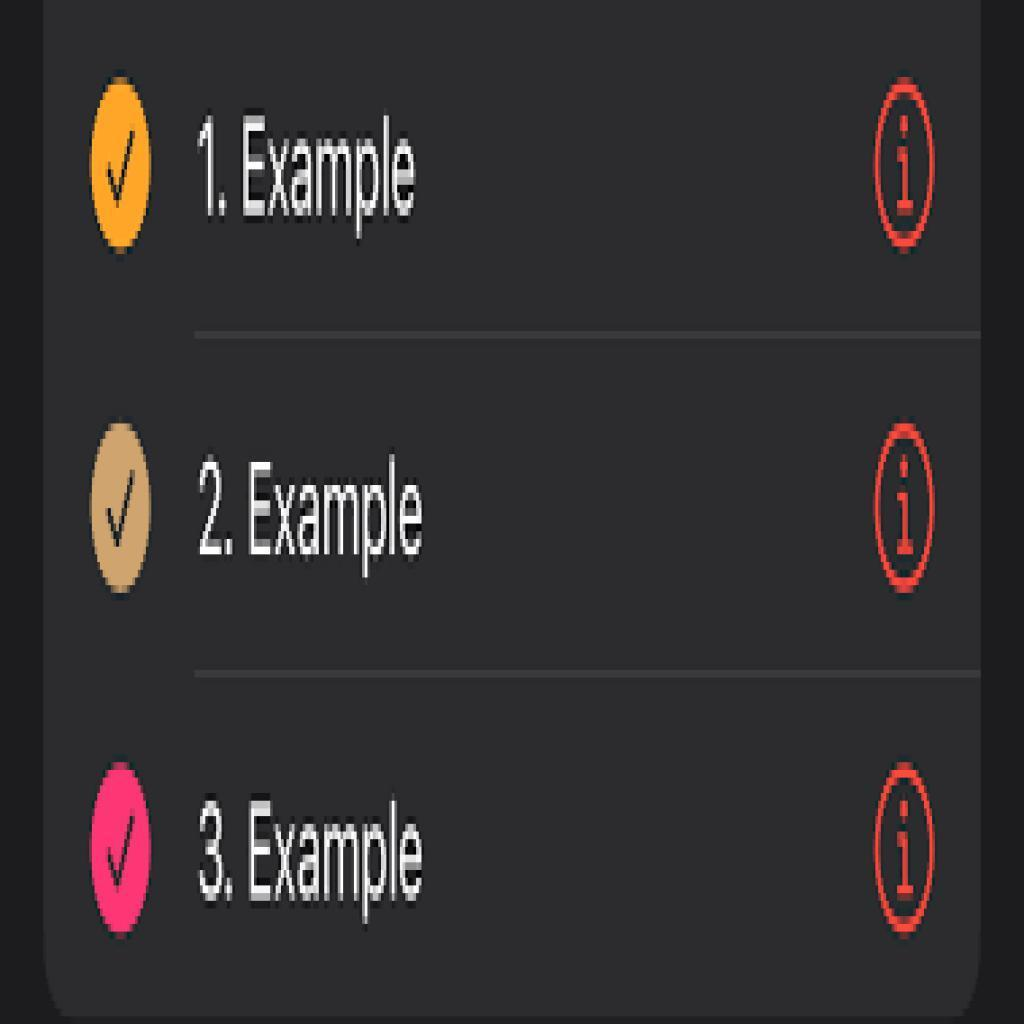icon: (858, 757, 948, 944), (871, 421, 951, 603), (870, 81, 939, 250)
radio: (85, 760, 156, 950), (83, 423, 156, 595), (93, 78, 149, 255)
